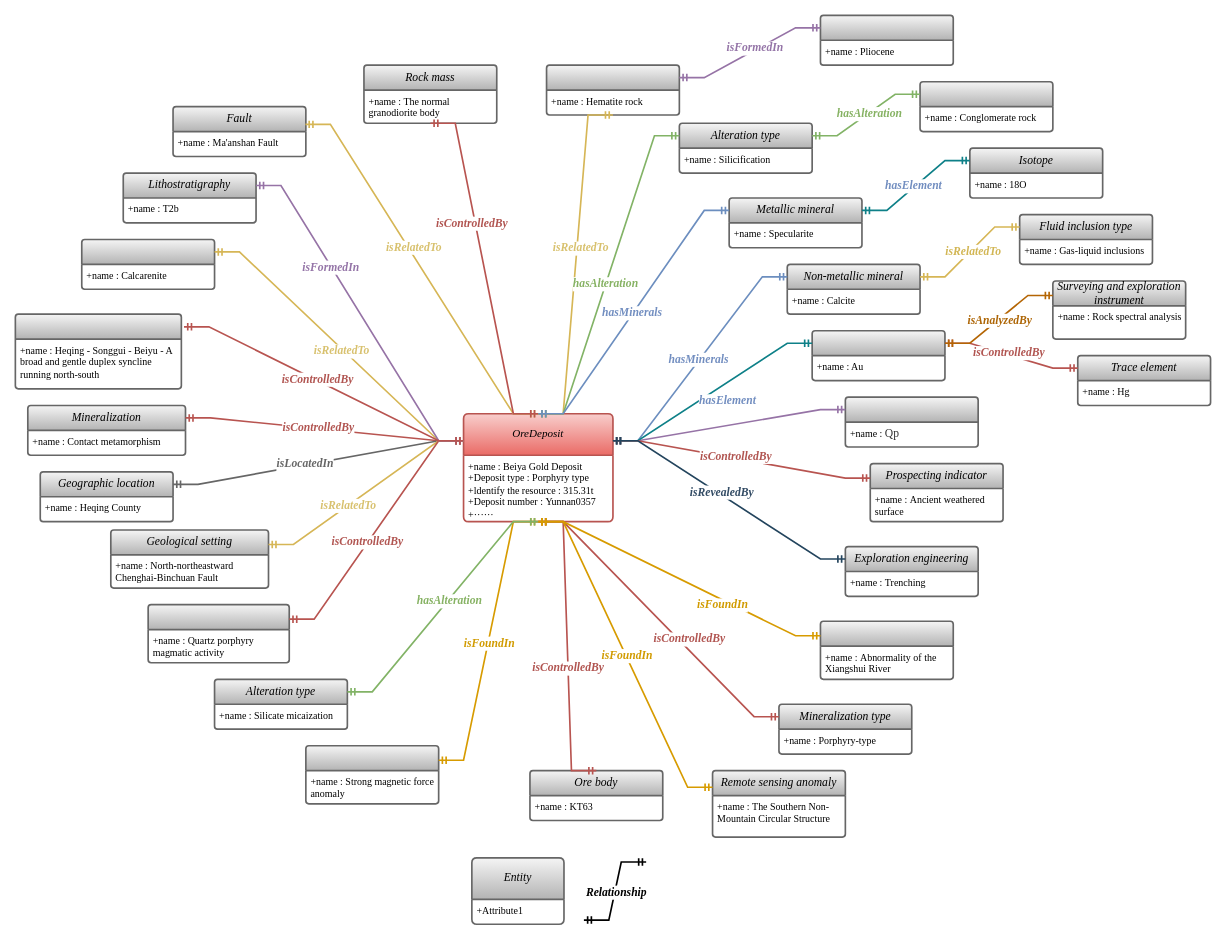
The diagram is 1225 pixels wide and 950 high, and some of its shapes have lost their labels. The box of each missing label's shape, as (x1, y1, x2, y2) in pixels:
Chronostratigraphy: (844, 396, 979, 447)
Fold: (14, 313, 182, 389)
Geochemical anomaly: (819, 620, 954, 680)
Geological age: (819, 14, 954, 66)
Geological event: (147, 603, 290, 663)
Geophysical anomaly: (305, 745, 439, 804)
Igneous rock: (545, 64, 680, 115)
Major element: (811, 330, 945, 381)
Metamorphic rock: (919, 81, 1053, 132)
Sedimentary rock: (81, 238, 215, 290)
